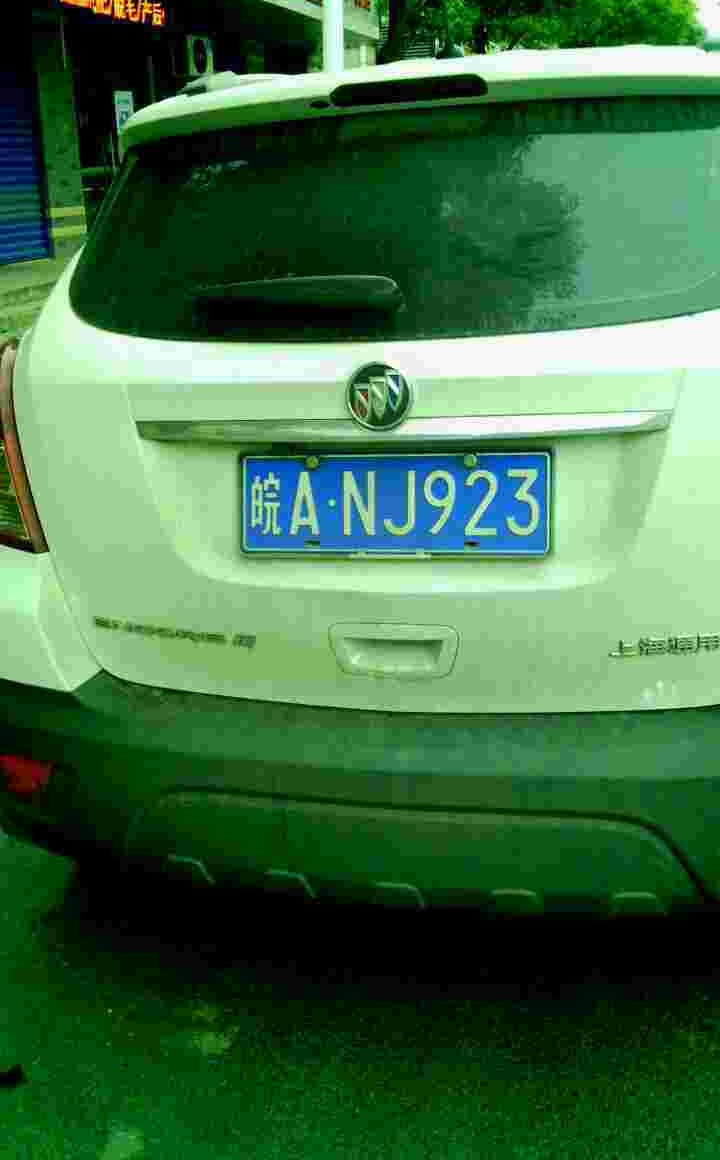license_plate: (251, 461, 540, 553)
